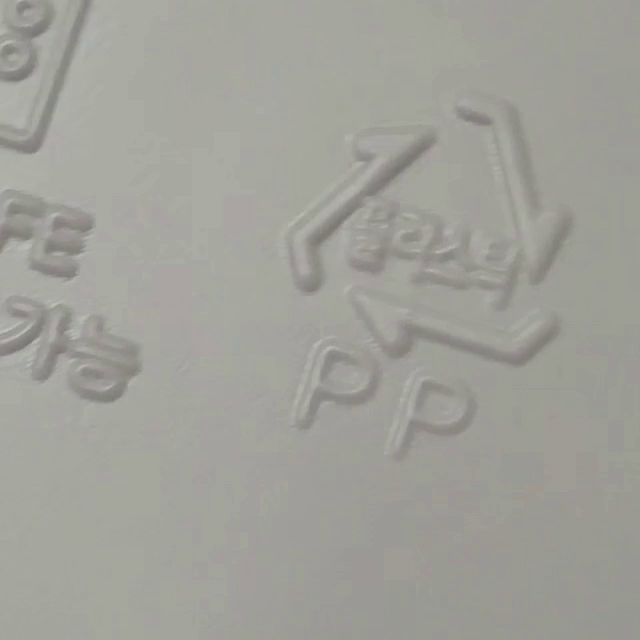Plastic: (287, 89, 571, 367)
